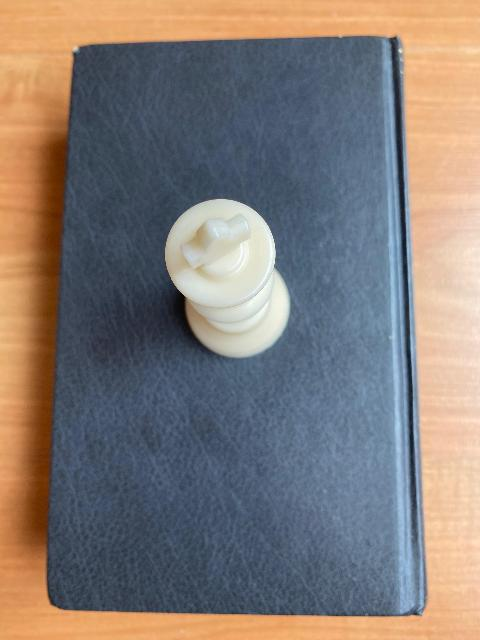white-king: (163, 197, 290, 359)
